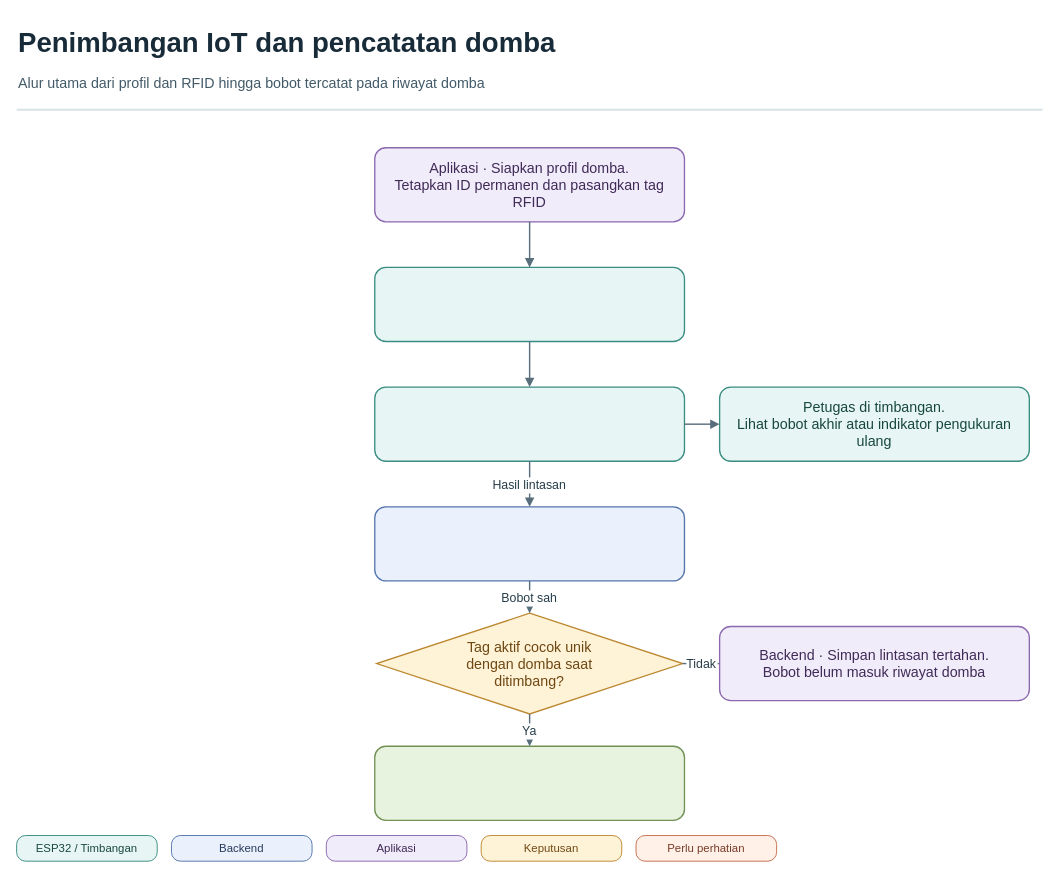
Some shapes in this 1059 by 878 pixel diagram are drawn without their labels. Here are the shapes that lost their labels. From the top down, the box of each, then its label:
(374, 266, 685, 342): Timbangan · Mulai sesi. Baca satu tag RFID yang terkonfirmasi
(374, 386, 685, 461): ESP32 · Timbang secara lokal. Saring sampel dan cari jendela stabil
(374, 506, 685, 581): ESP32 → Supabase. Simpan di microSD dan unggah lewat HTTPS
(374, 745, 685, 821): Aplikasi · Riwayat bobot domba. Simpan satu bobot resmi per lintasan yang sah
